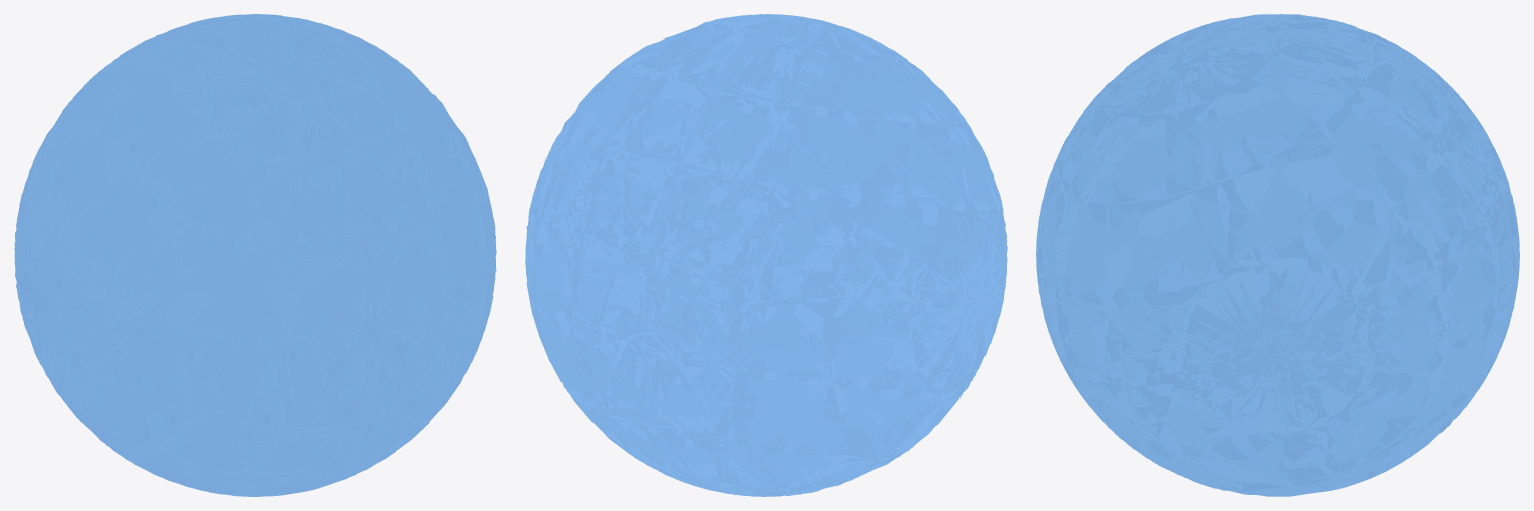
Rendered from tank-F0-1.glb.
3 views of the same model, side by side, from view 1: azimuth 30°, elevation 25°; view 2: azimuth 150°, elevation 25°; view 3: azimuth 270°, elevation 25° (orthographic).
Visible parts, largest first — view 1: buoyancy_tanks; view 2: buoyancy_tanks; view 3: buoyancy_tanks.
Boxes of the visible parts, box(x1,y1,x2,y2) form: buoyancy_tanks: box(14, 14, 496, 496); buoyancy_tanks: box(525, 14, 1007, 496); buoyancy_tanks: box(1036, 14, 1519, 496).
Size of the model in its own units: 2 by 2 by 2.
